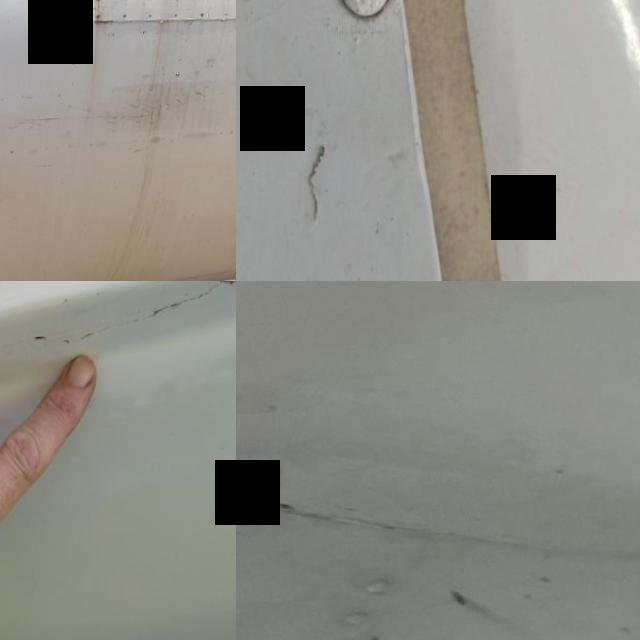Crack: (0, 281, 236, 357), (288, 110, 351, 245)
Missing_Fastener: (236, 453, 280, 502)
